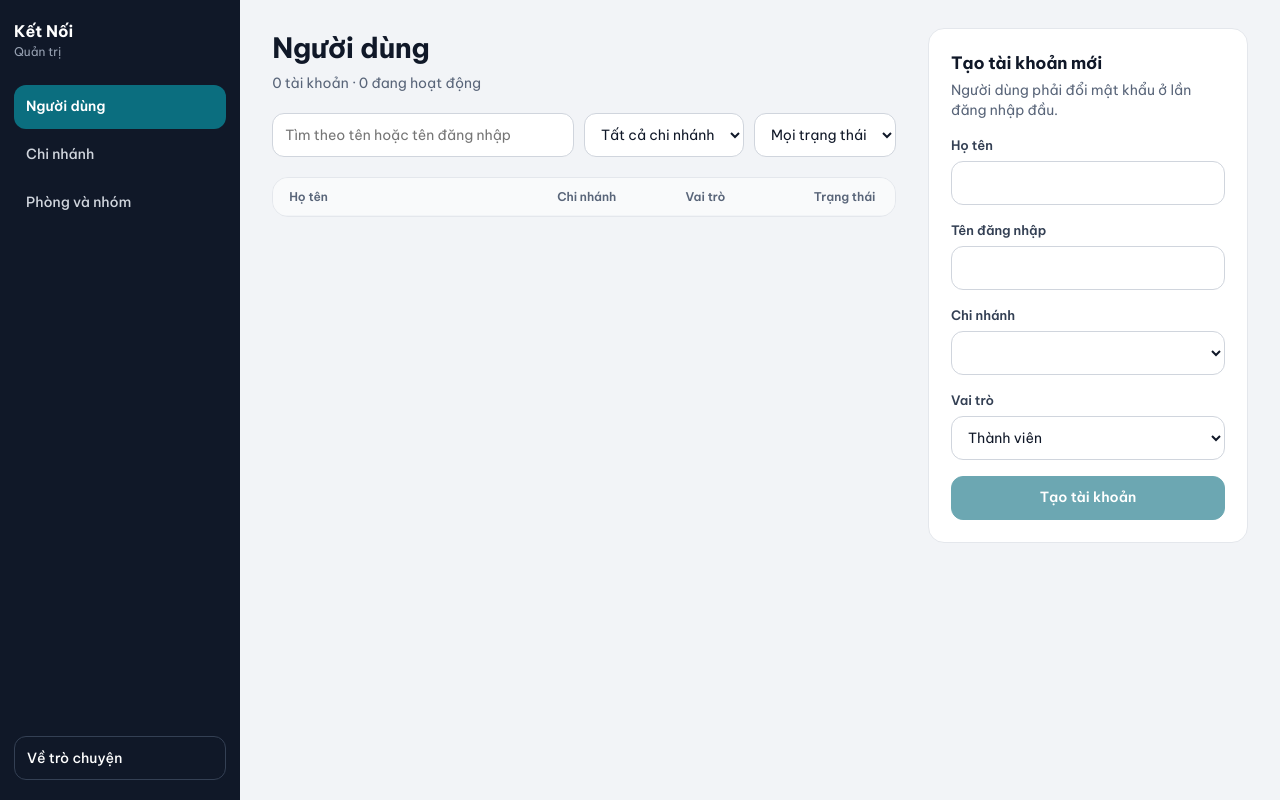
Test: AdminLayout › navigates between sections and back to the chat
Click the link "Chi nhánh" at (60, 154), box x1=26 y1=145 x2=94 y2=163
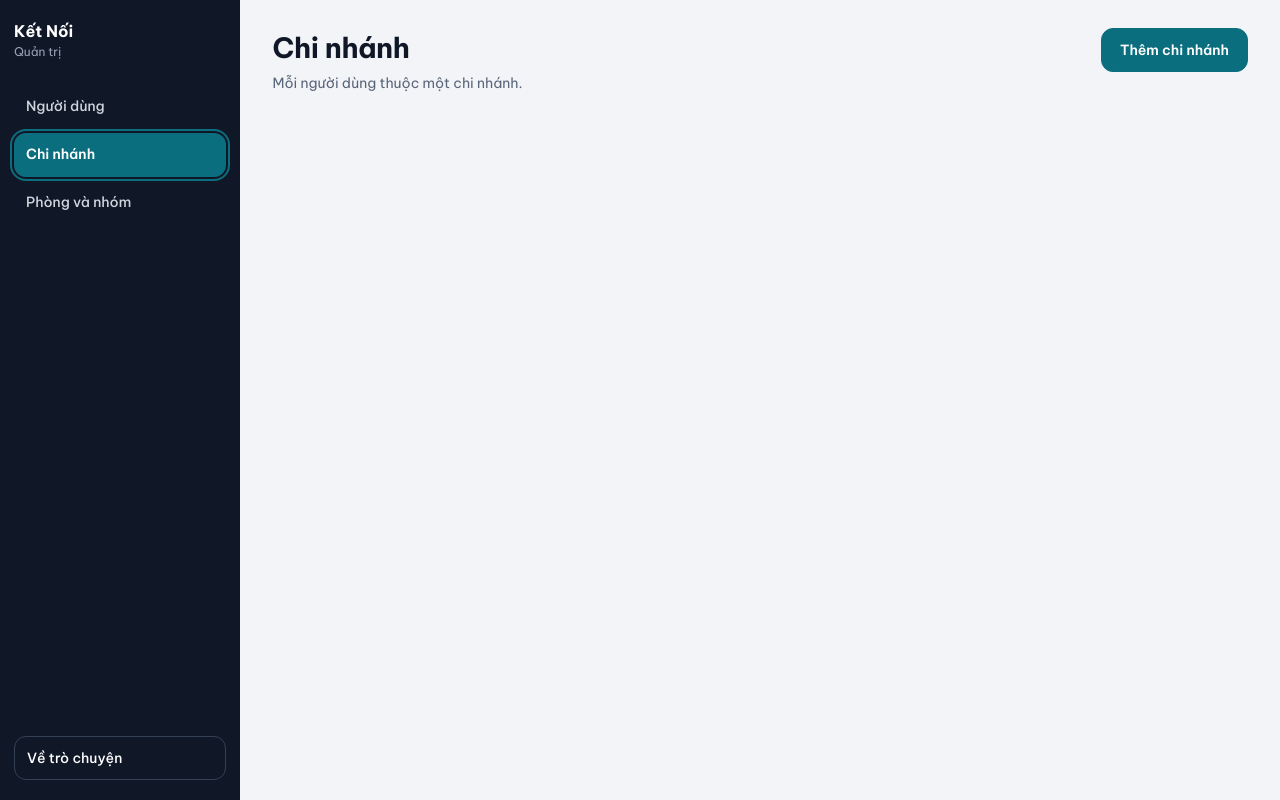
expect the heading "Chi nhánh" is shown: met, box x1=272 y1=30 x2=410 y2=65
Click the link "Về trò chuyện" at (120, 758), box x1=14 y1=736 x2=226 y2=780
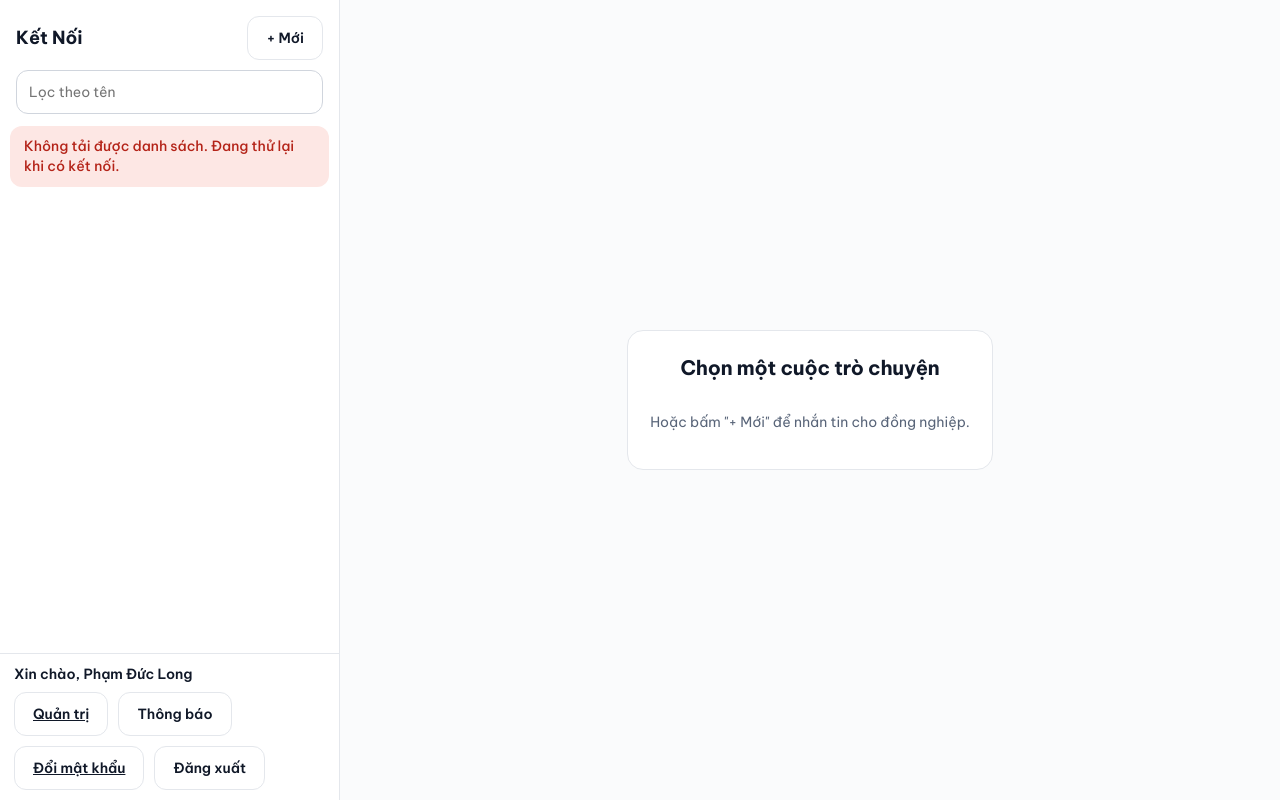
expect the text "Xin chào, Phạm Đức Long" is shown: met, box x1=14 y1=665 x2=192 y2=683
